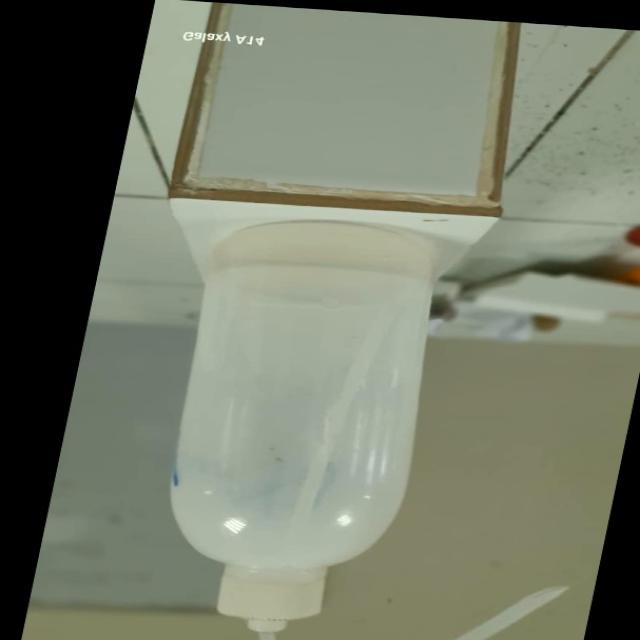Washing Bottle: (102, 216, 636, 640)
